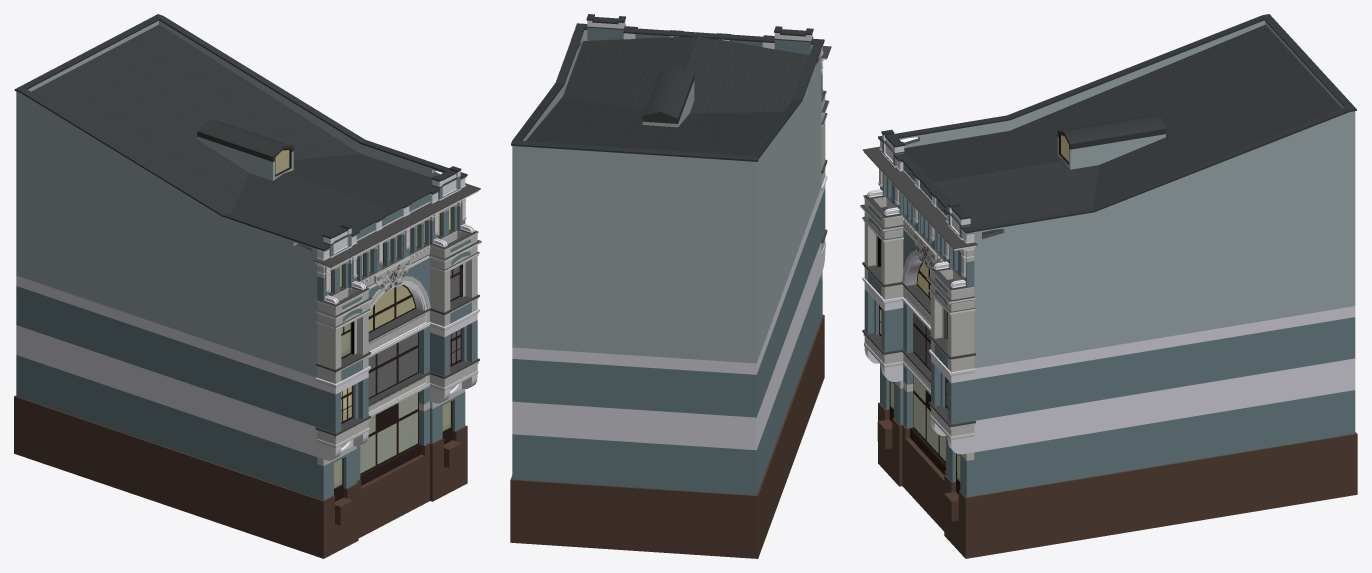
Rendered from HouseForStreet9.FBX.
3 renders of one model, left to right at view 1: azimuth 30°, elevation 25°; view 2: azimuth 150°, elevation 25°; view 3: azimuth 270°, elevation 25°, orthographic. The views are drawn at different scales.
Visible parts, largest first — view 1: 01080-50@45565; view 2: 01080-50@45565; view 3: 01080-50@45565.
Boxes of the visible parts, x1,y1,x2,y2 form: 01080-50@45565: [14, 14, 481, 558]; 01080-50@45565: [510, 14, 831, 558]; 01080-50@45565: [860, 14, 1357, 558].
Size of the model in its own units: 23.42 by 25.71 by 30.05.
1 material, 1 textured.
